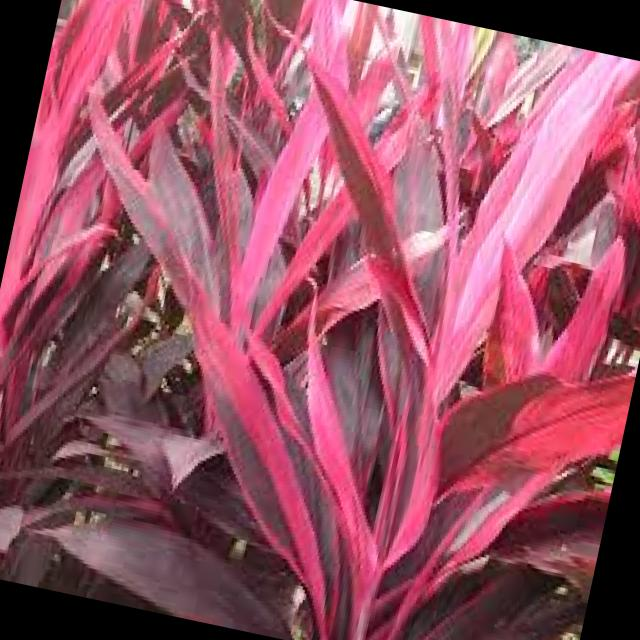Ti: (0, 58, 640, 640), (0, 0, 371, 626)
